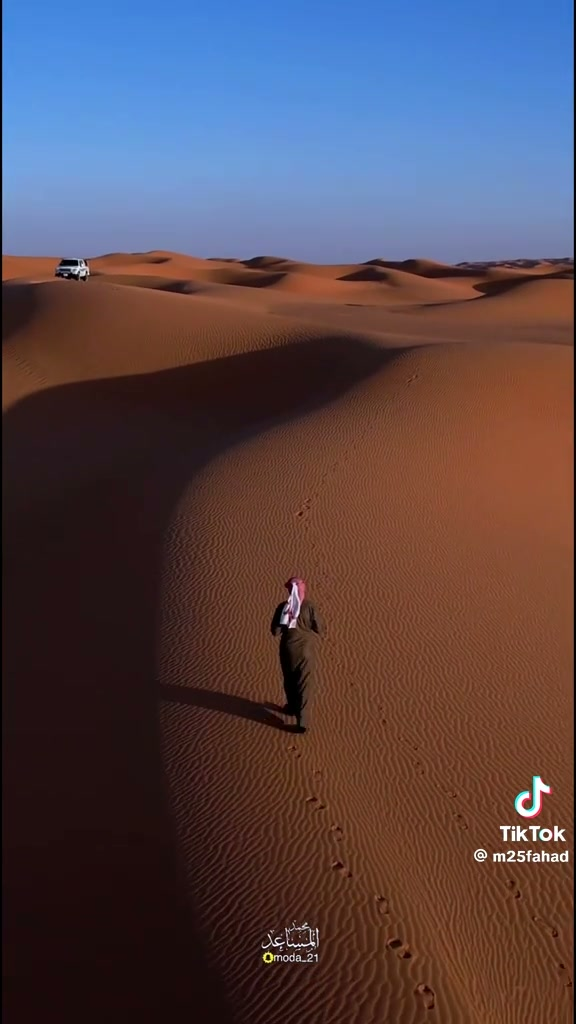human: (271, 577, 323, 732)
human_foot_print: (365, 880, 404, 922), (375, 933, 420, 967), (413, 973, 447, 1017), (315, 858, 363, 886), (498, 865, 524, 897), (303, 788, 333, 811), (448, 805, 472, 833), (560, 958, 576, 997), (538, 913, 558, 938), (333, 815, 345, 842)
